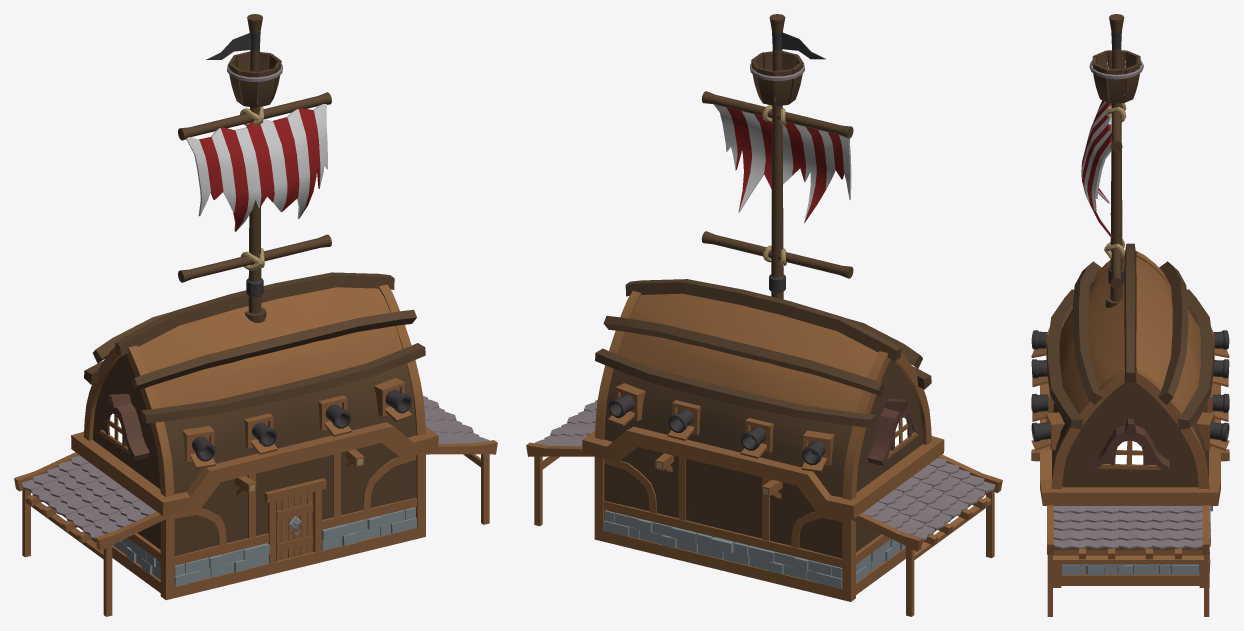
File: quaternius-pirate-house-3.glb
The picture shows the model from 3 angles, left to right: view 1: azimuth 30°, elevation 25°; view 2: azimuth 150°, elevation 25°; view 3: azimuth 270°, elevation 25°; orthographic projection. The views are drawn at different scales.
Visible parts, largest first — view 1: Environment_House3; view 2: Environment_House3; view 3: Environment_House3.
Boxes of the visible parts, x1=… form: Environment_House3: x1=14, y1=14, x2=497, y2=616; Environment_House3: x1=526, y1=14, x2=1002, y2=616; Environment_House3: x1=1031, y1=14, x2=1229, y2=616.
Bounding box in the file's own units: 8.46 × 10.64 × 3.78.
2 materials, 1 textured.
